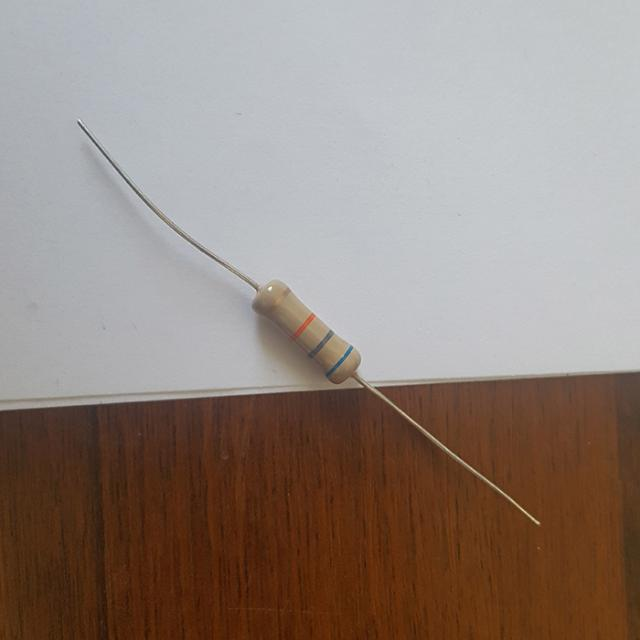blue: (325, 346, 353, 375)
gold: (265, 288, 291, 315)
grey: (310, 328, 334, 356)
orange: (293, 312, 315, 337)
resistor: (236, 265, 387, 402)
